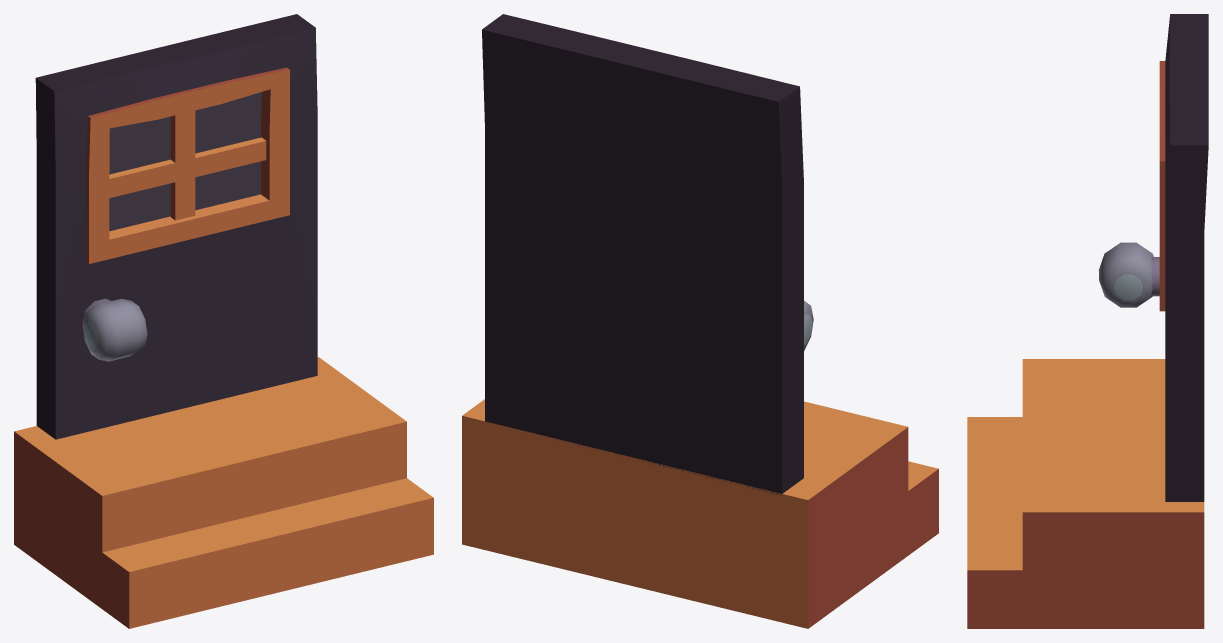
File: Door02_Black_Wood.glb
3 views of the same model, side by side, from view 1: azimuth 30°, elevation 25°; view 2: azimuth 150°, elevation 25°; view 3: azimuth 270°, elevation 25° (orthographic). The views are drawn at different scales.
Parts seen in each view (by area): view 1: Door02_Black_Wood; view 2: Door02_Black_Wood; view 3: Door02_Black_Wood.
Part boxes in pixels (x1,y1,x2,y2): Door02_Black_Wood: [14, 14, 433, 628]; Door02_Black_Wood: [462, 14, 938, 628]; Door02_Black_Wood: [967, 14, 1208, 628].
Bounding box in the file's own units: 0.9795 × 1.41 × 0.6527.
Materials: 1 (1 with a texture image).
